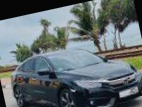car: (6, 34, 142, 107)
